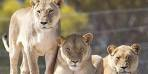lion: (10, 2, 58, 74), (53, 34, 100, 74), (100, 45, 143, 73)
